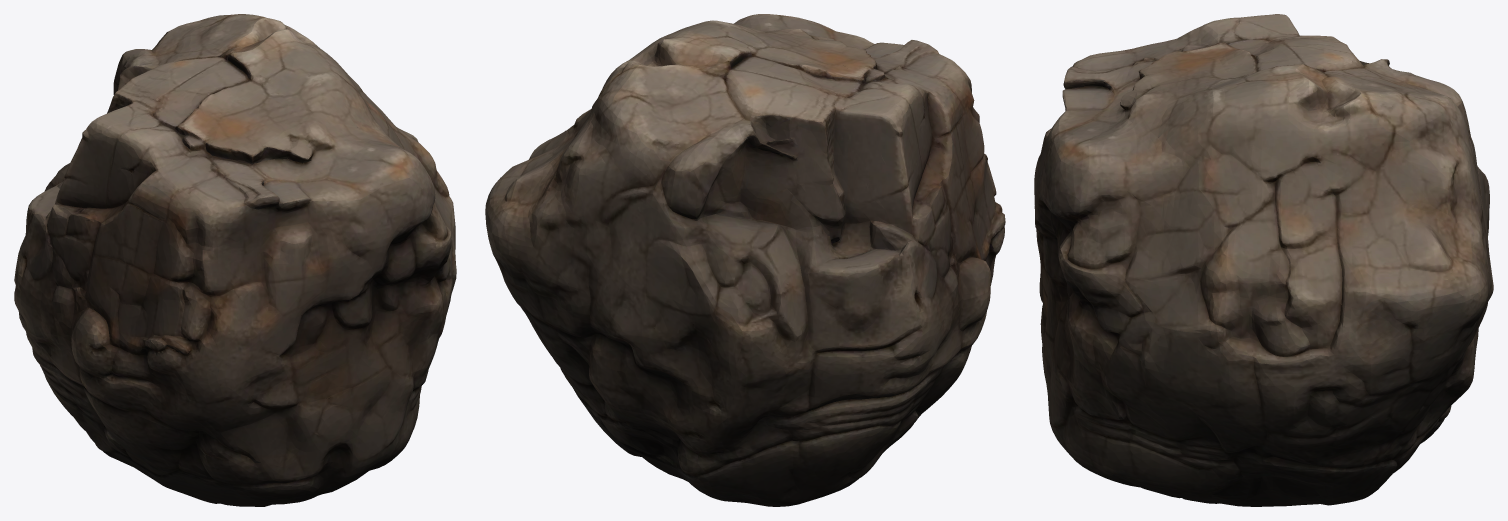
Rendered from rock_3d_model.glb.
3 views of the same model, side by side, from view 1: azimuth 30°, elevation 25°; view 2: azimuth 150°, elevation 25°; view 3: azimuth 270°, elevation 25° (orthographic). The views are drawn at different scales.
Visible parts, largest first — view 1: geometry_0; view 2: geometry_0; view 3: geometry_0.
Part boxes in pixels (x1,y1,x2,y2): geometry_0: [14, 14, 456, 506]; geometry_0: [485, 14, 1005, 506]; geometry_0: [1034, 14, 1493, 506].
Bounding box in the file's own units: 0.8186 × 0.8 × 0.7662.
1 material, 1 textured.
